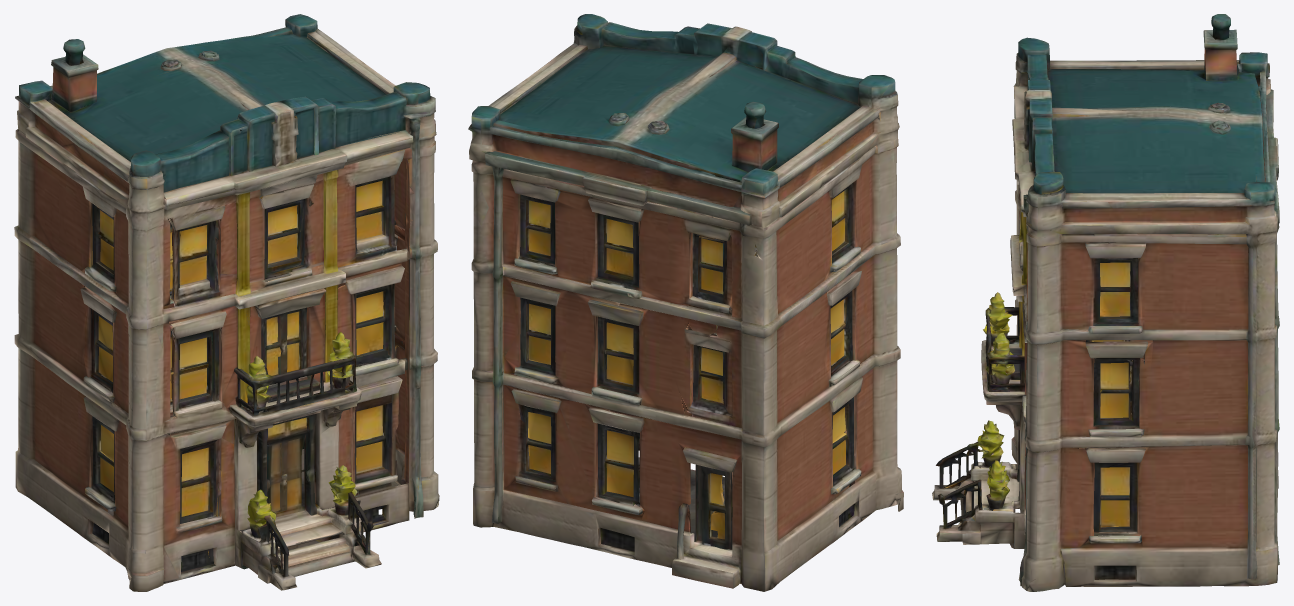
Rendered from candidate.glb.
The picture shows the model from 3 angles, left to right: view 1: azimuth 30°, elevation 25°; view 2: azimuth 150°, elevation 25°; view 3: azimuth 270°, elevation 25°; orthographic projection. The views are drawn at different scales.
Visible parts, largest first — view 1: expansion__villa_3__native_mobile; view 2: expansion__villa_3__native_mobile; view 3: expansion__villa_3__native_mobile.
Part boxes in pixels (left/top/right/bottom): expansion__villa_3__native_mobile: left=14, top=14, right=439, bottom=591; expansion__villa_3__native_mobile: left=468, top=14, right=903, bottom=591; expansion__villa_3__native_mobile: left=932, top=14, right=1279, bottom=591.
Size of the model in its own units: 0.7051 by 1 by 0.6938.
1 material, 1 textured.
